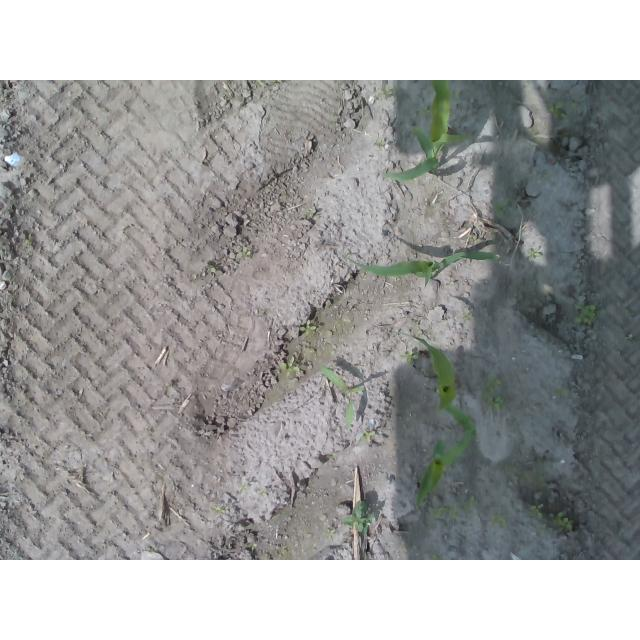Maize: (401, 330, 478, 442), (382, 80, 465, 182), (337, 249, 499, 288), (416, 430, 474, 507)
Weeds: (318, 365, 366, 430), (341, 499, 375, 533), (481, 372, 508, 413), (548, 99, 577, 120), (572, 304, 596, 325), (548, 512, 574, 530), (277, 356, 300, 375), (429, 504, 456, 520), (299, 320, 317, 337), (462, 494, 477, 513), (489, 514, 508, 527), (401, 351, 418, 365), (530, 503, 543, 519), (495, 202, 507, 218), (358, 430, 374, 441), (380, 85, 397, 95), (237, 247, 251, 258), (528, 248, 543, 258), (324, 527, 335, 540), (535, 524, 545, 537), (418, 107, 430, 117), (211, 506, 226, 514), (206, 264, 217, 273), (452, 88, 464, 96), (527, 128, 537, 137), (247, 543, 258, 551), (469, 236, 480, 244), (430, 553, 440, 560), (239, 482, 247, 490), (273, 80, 282, 86)
